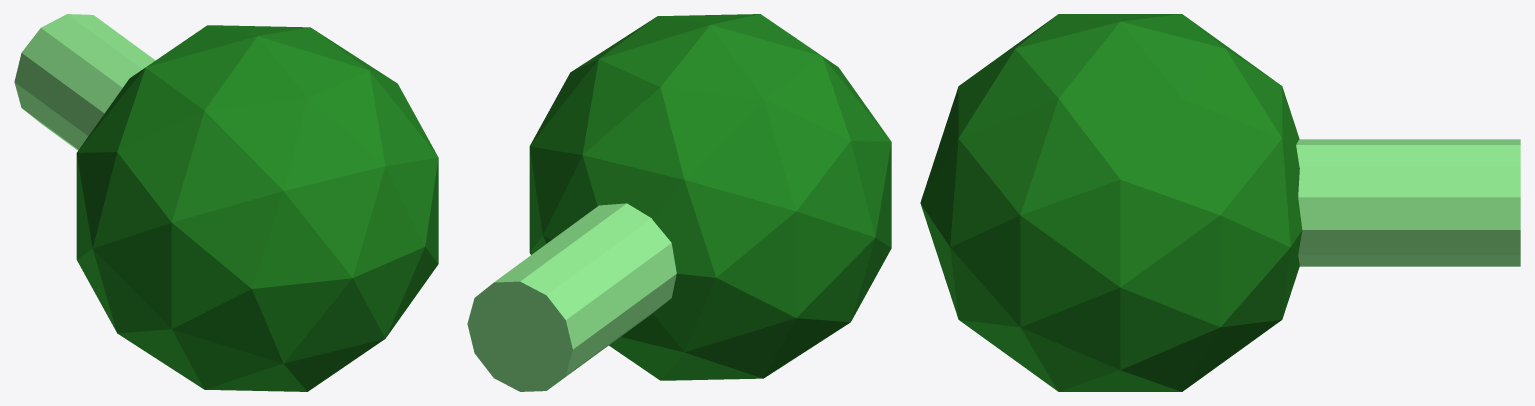
File: nil_link_mesh.dae
3 views of the same model, side by side, from view 1: azimuth 30°, elevation 25°; view 2: azimuth 150°, elevation 25°; view 3: azimuth 270°, elevation 25° (orthographic). The views are drawn at different scales.
Visible parts, largest first — view 1: nil_link (×2); view 2: nil_link (×2); view 3: nil_link (×2).
Part boxes in pixels (box(x1,y1,x2,y2)): nil_link (×2): box(14, 14, 438, 391); nil_link (×2): box(467, 14, 891, 391); nil_link (×2): box(920, 14, 1520, 391).
Size of the model in its own units: 0.05 by 0.05 by 0.075.
